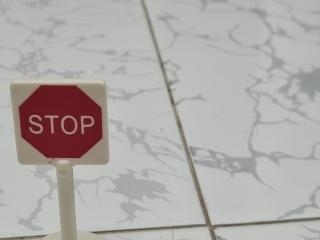stop: (7, 73, 119, 174)
